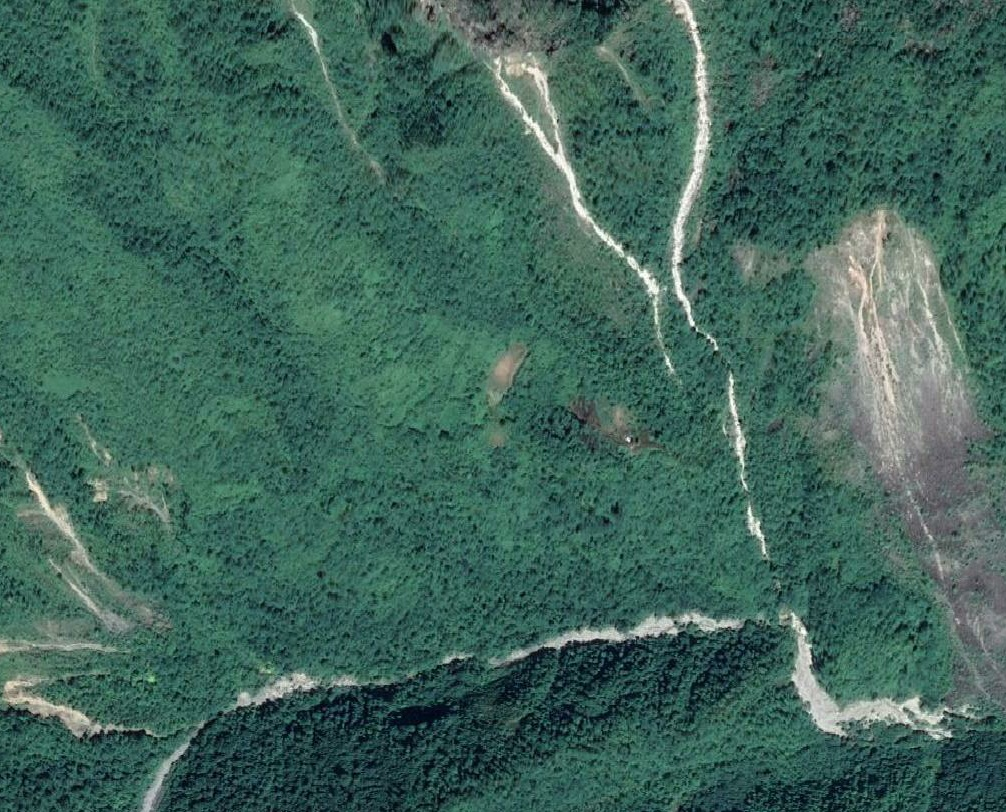slope: (805, 199, 1005, 712), (781, 609, 946, 751)
